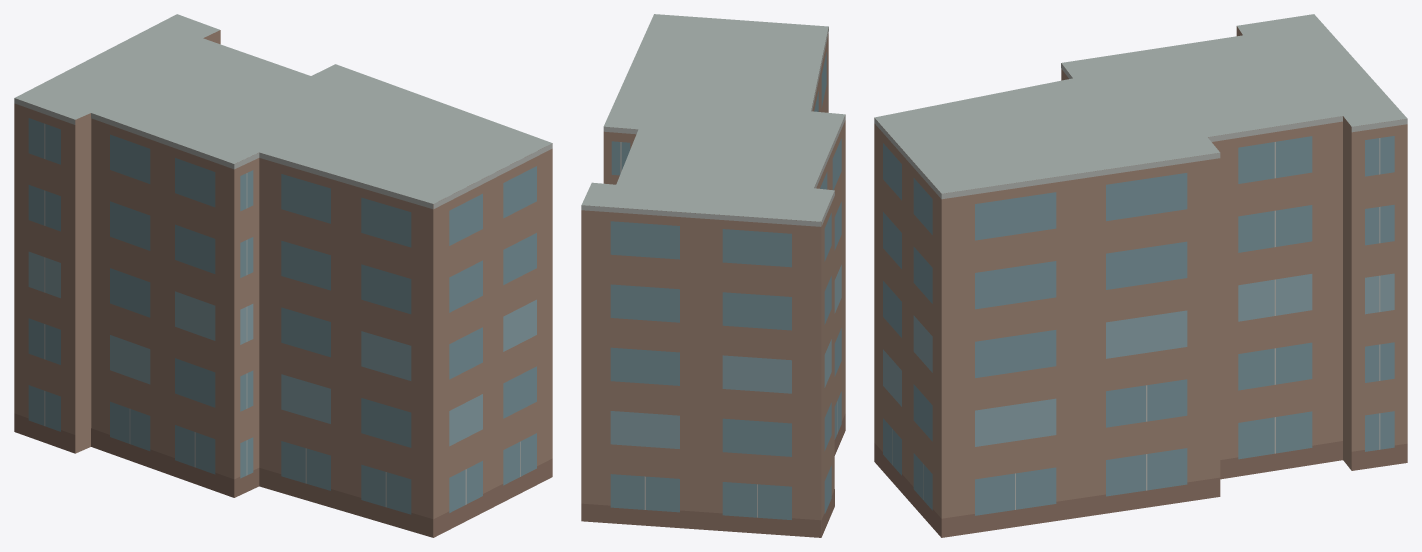
Rendered from survey-upis-32516737.glb.
3 renders of one model, left to right at view 1: azimuth 30°, elevation 25°; view 2: azimuth 150°, elevation 25°; view 3: azimuth 270°, elevation 25°, orthographic. The views are drawn at different scales.
Visible parts, largest first — view 1: survey-upis-32516737.tmp; view 2: survey-upis-32516737.tmp; view 3: survey-upis-32516737.tmp.
Boxes of the visible parts, x1=… form: survey-upis-32516737.tmp: x1=14, y1=14, x2=552, y2=537; survey-upis-32516737.tmp: x1=581, y1=14, x2=845, y2=537; survey-upis-32516737.tmp: x1=874, y1=14, x2=1407, y2=537.
Bounding box in the file's own units: 17.1 × 15.25 × 21.43.
